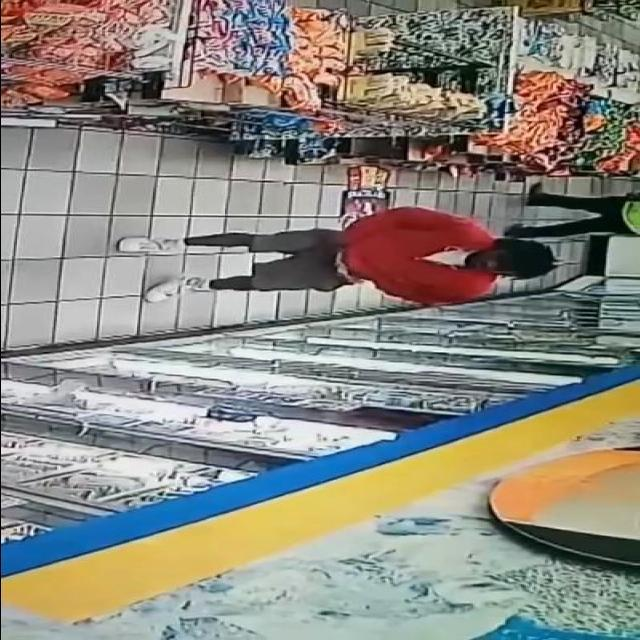Shoplifting: (101, 191, 597, 339)
